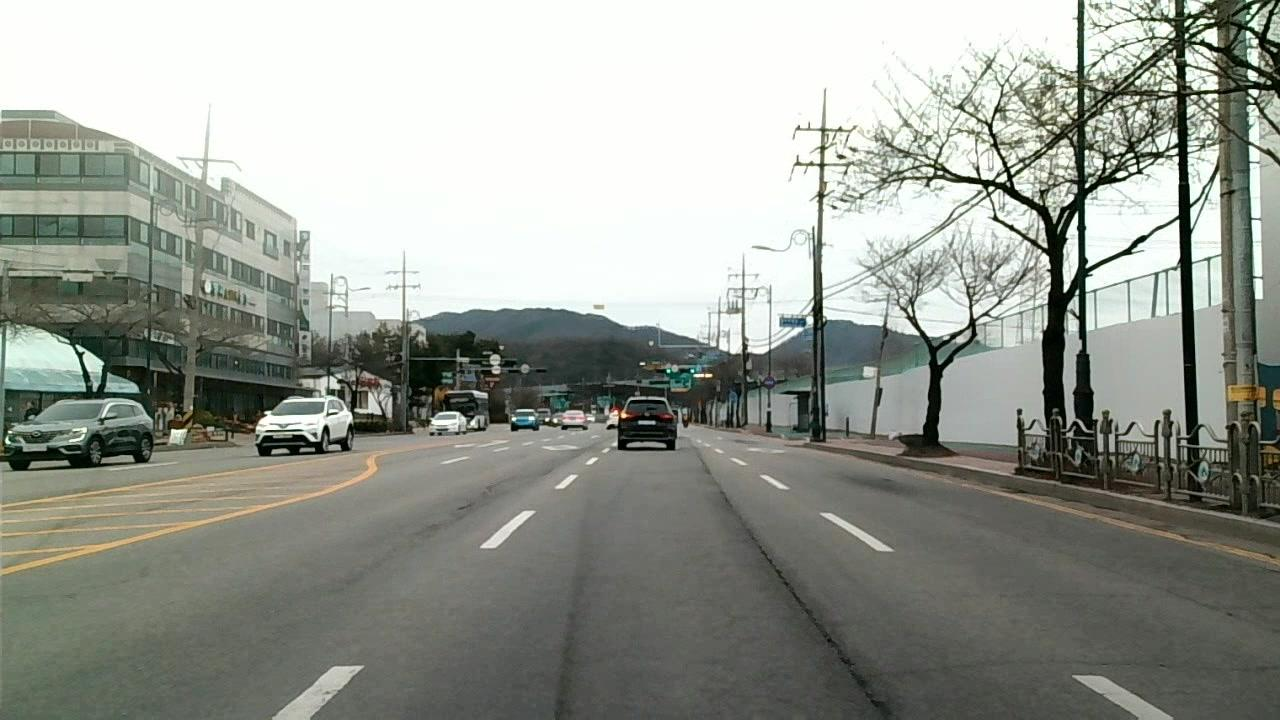banner: (780, 584, 883, 714), (712, 484, 781, 577), (915, 653, 1172, 674), (448, 482, 501, 527)
